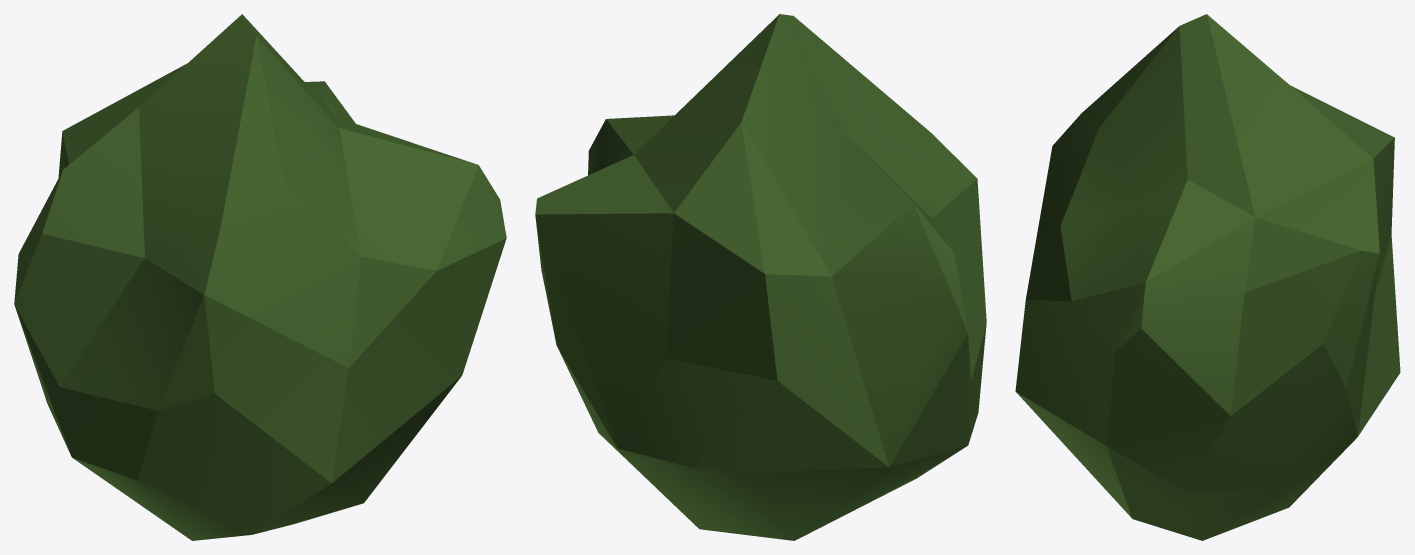
Rendered from BroadleafL.fbx.
3 views of the same model, side by side, from view 1: azimuth 30°, elevation 25°; view 2: azimuth 150°, elevation 25°; view 3: azimuth 270°, elevation 25° (orthographic). The views are drawn at different scales.
Visible parts, largest first — view 1: BroadLeafL; view 2: BroadLeafL; view 3: BroadLeafL.
Part boxes in pixels (<box>): BroadLeafL: <box>14,14,506,540</box>; BroadLeafL: <box>535,14,986,540</box>; BroadLeafL: <box>1015,14,1400,540</box>.
Bounding box in the file's own units: 228 × 262 × 182.
